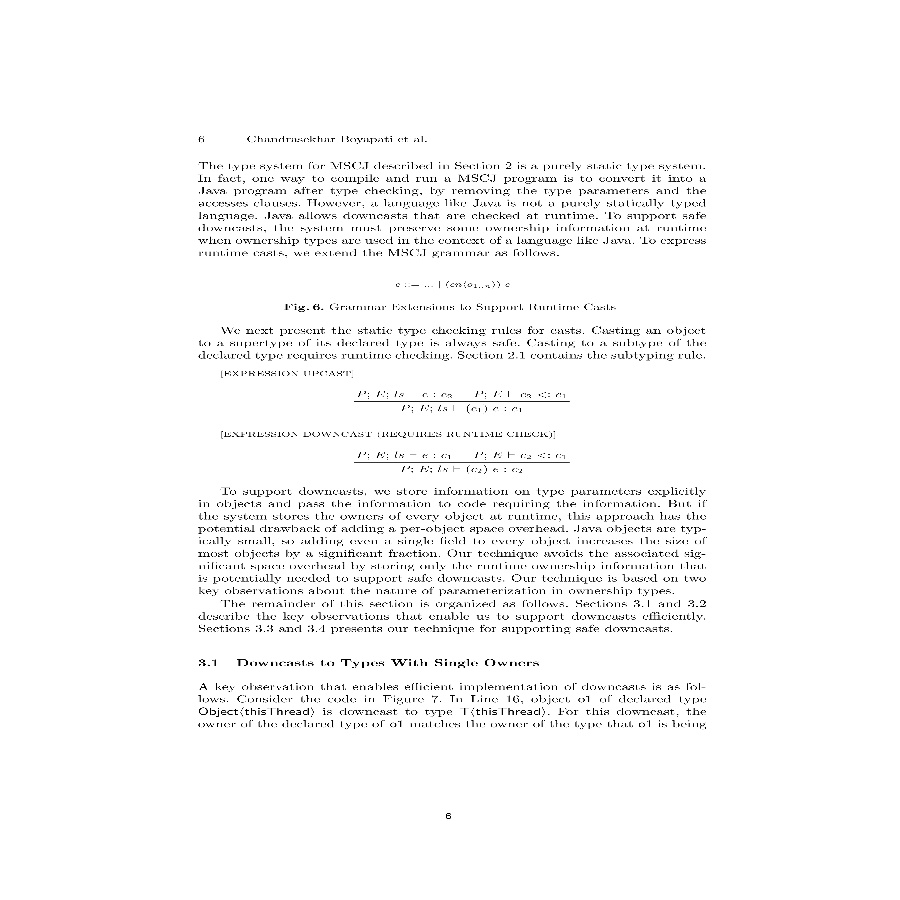eq: (351, 386, 569, 417), (353, 448, 572, 477), (391, 279, 517, 294)
